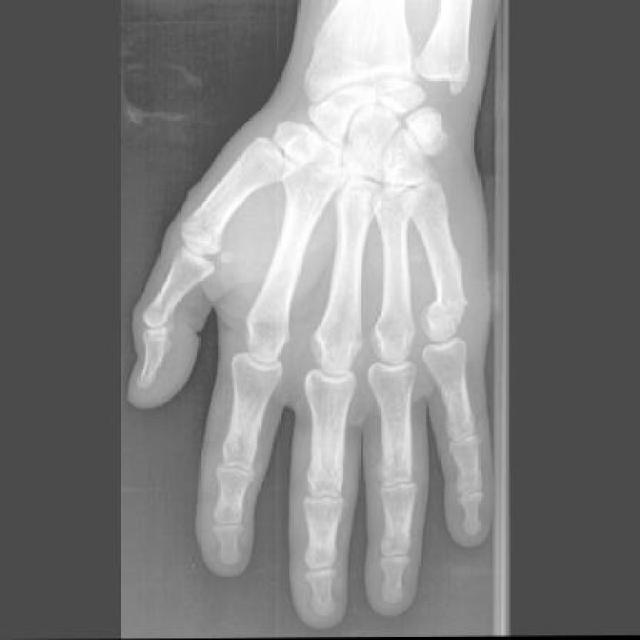Fracture: (433, 295, 470, 331)
